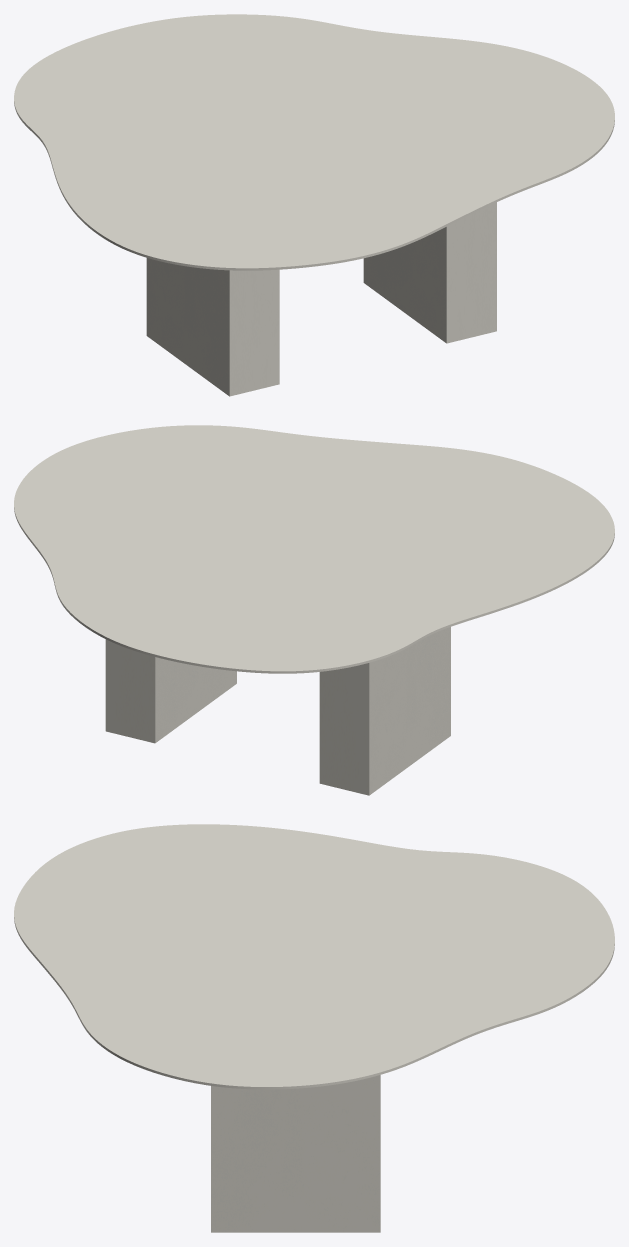
The model's file is pale_topone_facet_ridge.glb.
3 views of the same model, one above another, from view 1: azimuth 30°, elevation 25°; view 2: azimuth 150°, elevation 25°; view 3: azimuth 270°, elevation 25° (orthographic). The views are drawn at different scales.
Parts seen in each view (by area): view 1: facet_topone, ridge; view 2: facet_topone, ridge; view 3: facet_topone, ridge.
Part boxes in pixels (box(x1,y1,x2,y2)): facet_topone: box(14, 14, 614, 270); ridge: box(146, 202, 496, 396); facet_topone: box(14, 425, 614, 673); ridge: box(105, 627, 450, 795); facet_topone: box(14, 824, 614, 1089); ridge: box(211, 1075, 380, 1232).
Size of the model in its own units: 6.83 by 2.5 by 6.6.
1 material, 1 textured.
